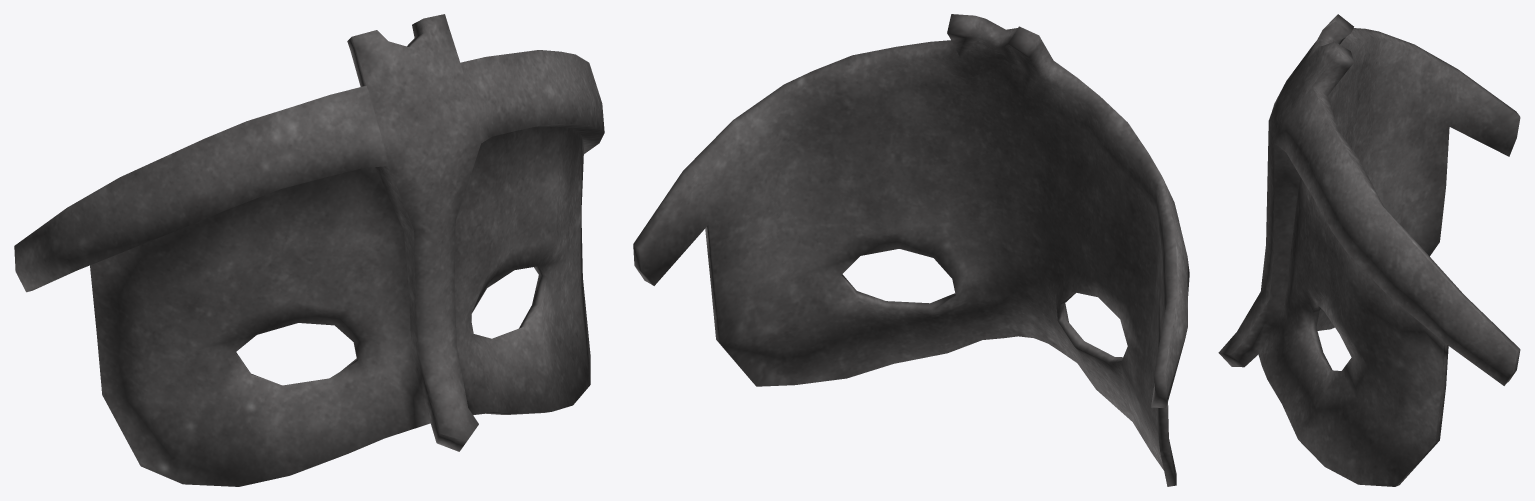
File: visor_unity.fbx
The picture shows the model from 3 angles, left to right: view 1: azimuth 30°, elevation 25°; view 2: azimuth 150°, elevation 25°; view 3: azimuth 270°, elevation 25°; orthographic projection. The views are drawn at different scales.
Parts seen in each view (by area): view 1: visor; view 2: visor; view 3: visor.
Part boxes in pixels (x1,y1,x2,y2): visor: (14,14,604,486); visor: (633,14,1189,486); visor: (1218,14,1520,486).
Bounding box in the file's own units: 22.79 × 16.28 × 12.11.
